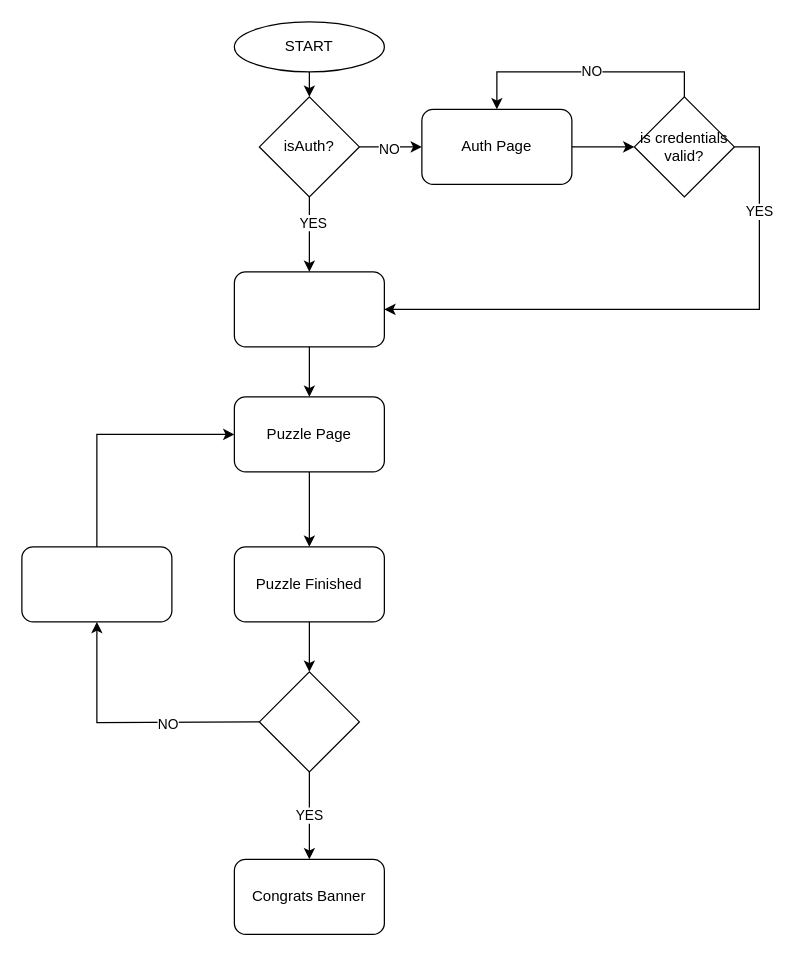
Some shapes in this 794 by 956 pixel diagram are drawn without their labels. The box of each missing label's shape, as (x1, y1, x2, y2) in pixels:
fetch next puzzle: (21, 546, 172, 622)
is it the last level?: (258, 671, 359, 772)
Main Page: (233, 271, 384, 347)
